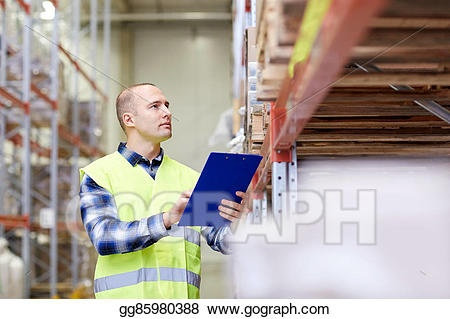person with partial safety: (80, 82, 229, 296)
safety vest: (85, 153, 204, 297)
